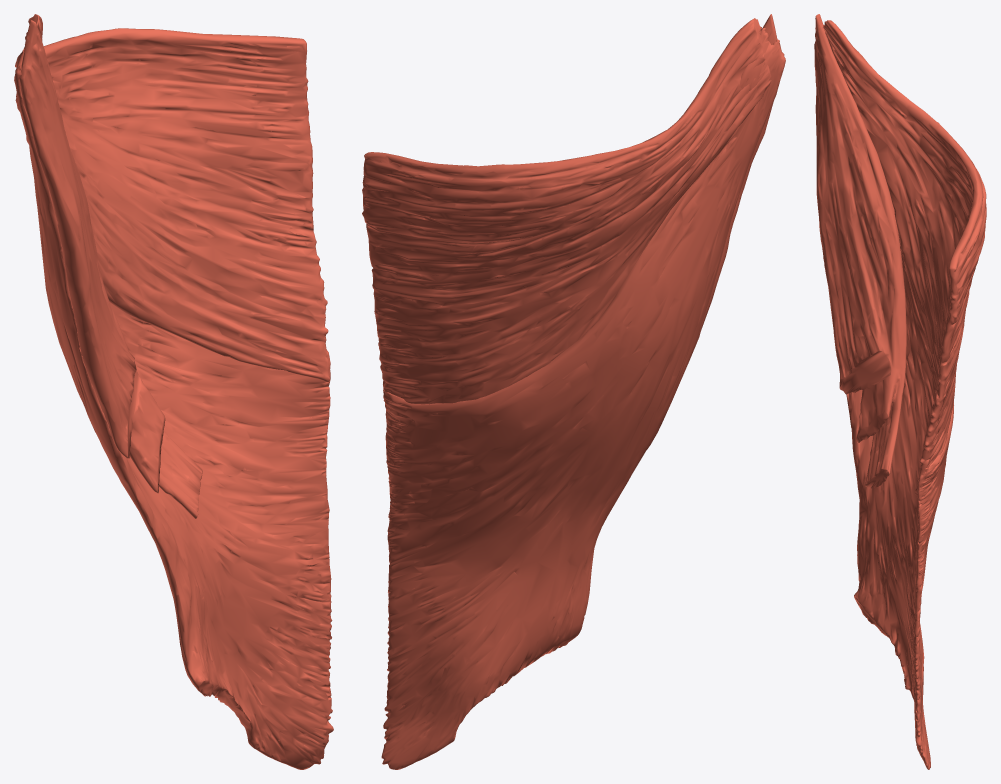
File: latissimus-dorsi.glb
The picture shows the model from 3 angles, left to right: view 1: azimuth 30°, elevation 25°; view 2: azimuth 150°, elevation 25°; view 3: azimuth 270°, elevation 25°; orthographic projection. The views are drawn at different scales.
Visible parts, largest first — view 1: Latissimus dorsi muscle'.r, Latissimus dorsi muscle.l, Latissimus dorsi muscle.r; view 2: Latissimus dorsi muscle.l, Latissimus dorsi muscle'.r, Latissimus dorsi muscle.r; view 3: Latissimus dorsi muscle.r, Latissimus dorsi muscle'.r, Latissimus dorsi muscle.l.
Part boxes in pixels (bbox=[...]): Latissimus dorsi muscle'.r: bbox=[15, 14, 330, 381]; Latissimus dorsi muscle.l: bbox=[14, 48, 333, 769]; Latissimus dorsi muscle.r: bbox=[19, 20, 202, 518]; Latissimus dorsi muscle.l: bbox=[381, 28, 785, 769]; Latissimus dorsi muscle'.r: bbox=[362, 18, 772, 411]; Latissimus dorsi muscle.r: bbox=[688, 14, 779, 363]; Latissimus dorsi muscle.r: bbox=[814, 14, 906, 488]; Latissimus dorsi muscle'.r: bbox=[823, 20, 986, 495]; Latissimus dorsi muscle.l: bbox=[823, 25, 953, 769].
Size of the model in its own units: 0.1869 by 0.4105 by 0.1017.
